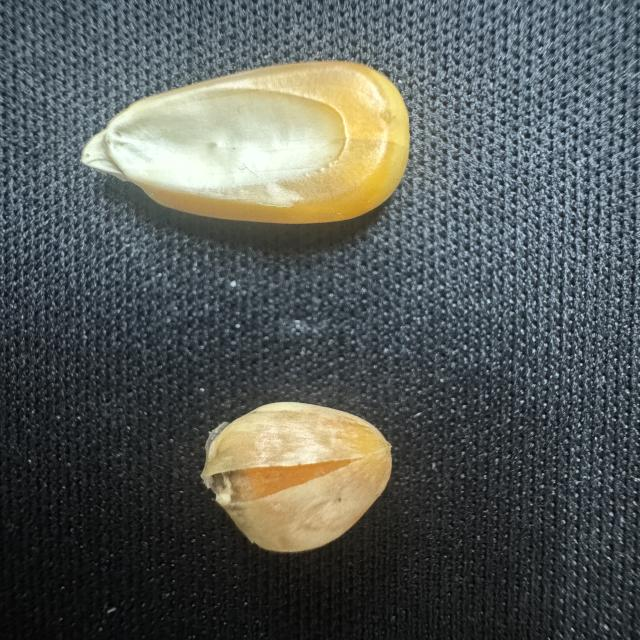Bad-Seed: (188, 391, 406, 561)
Good-Seed: (70, 53, 433, 230)
